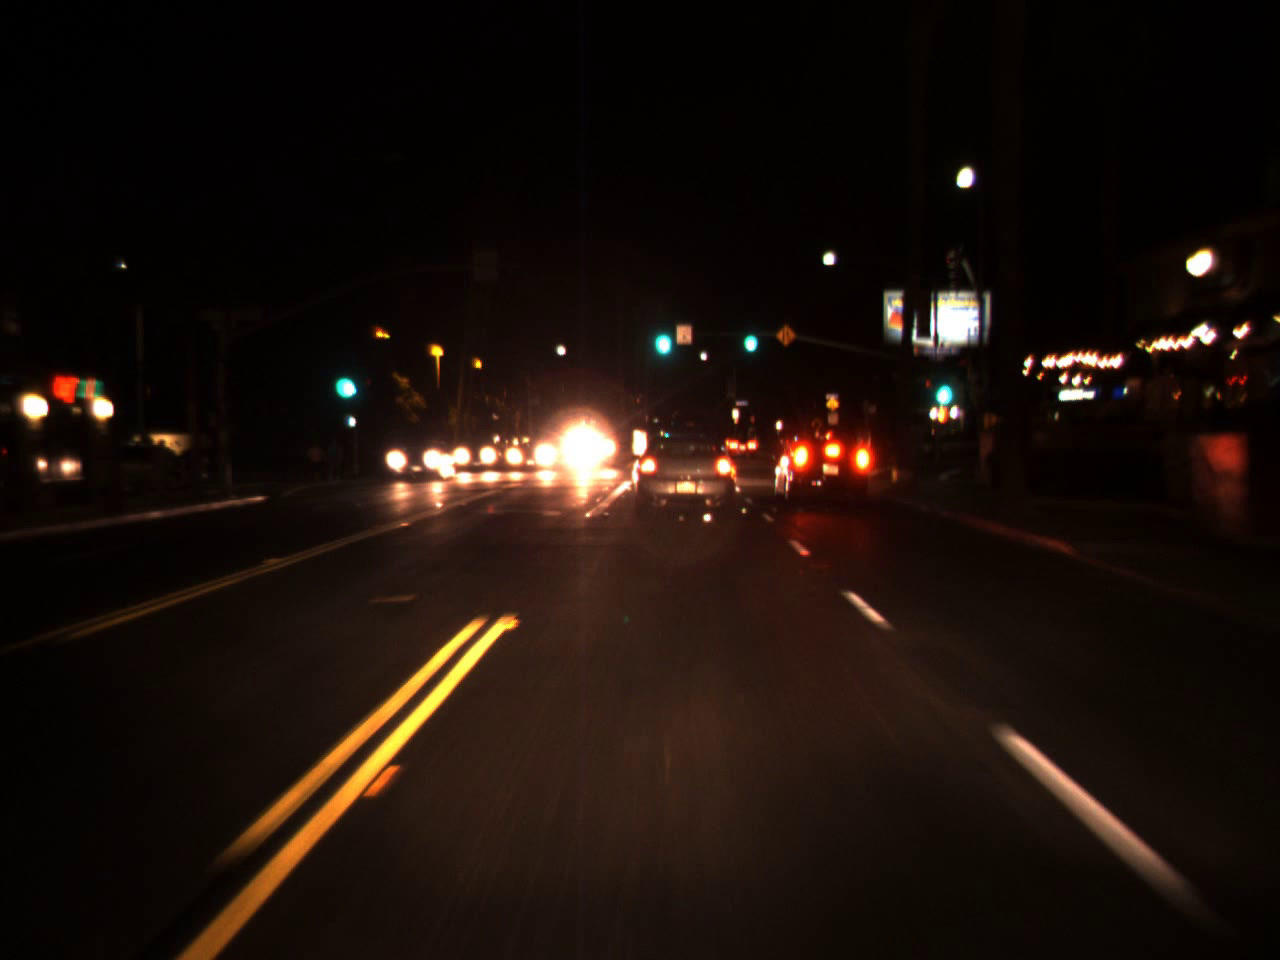go: (328, 352, 358, 406), (648, 306, 675, 363), (929, 357, 956, 414), (740, 319, 758, 352)
